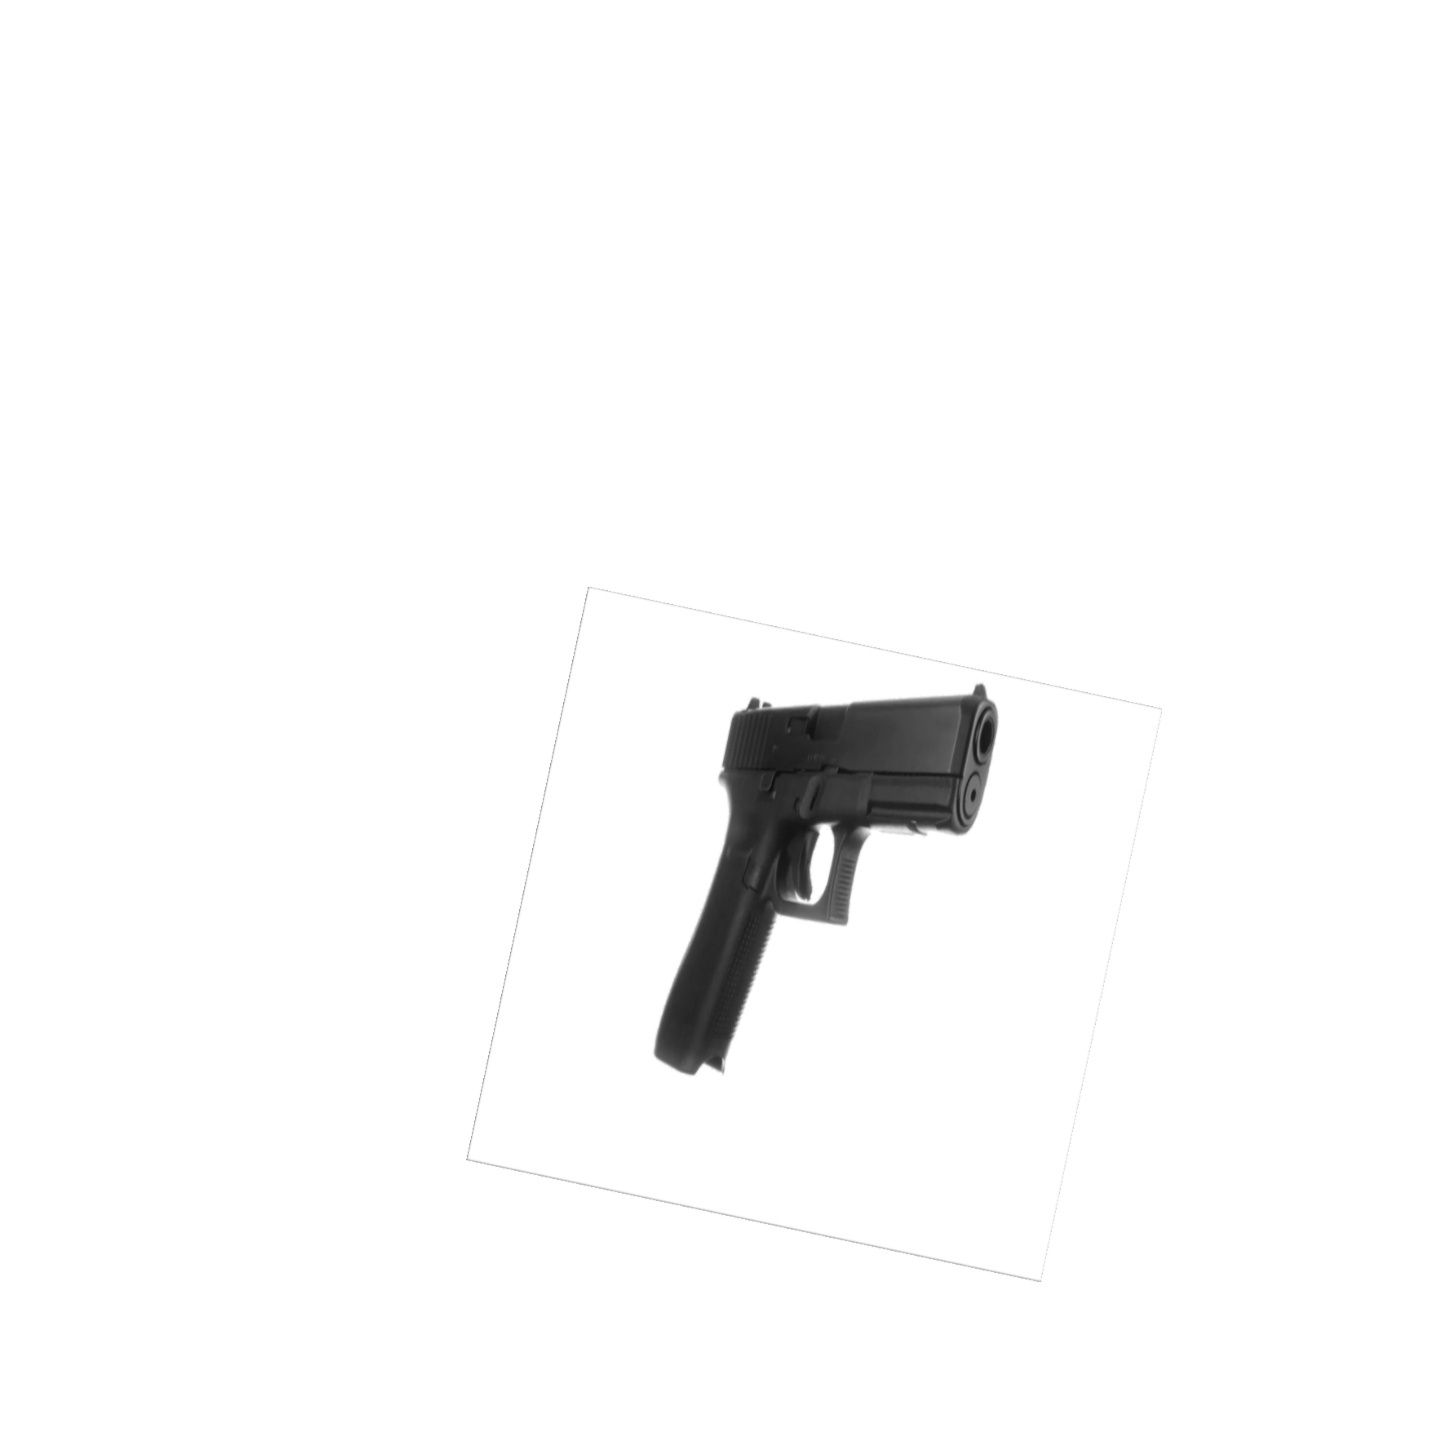gun: (656, 676, 999, 1069)
